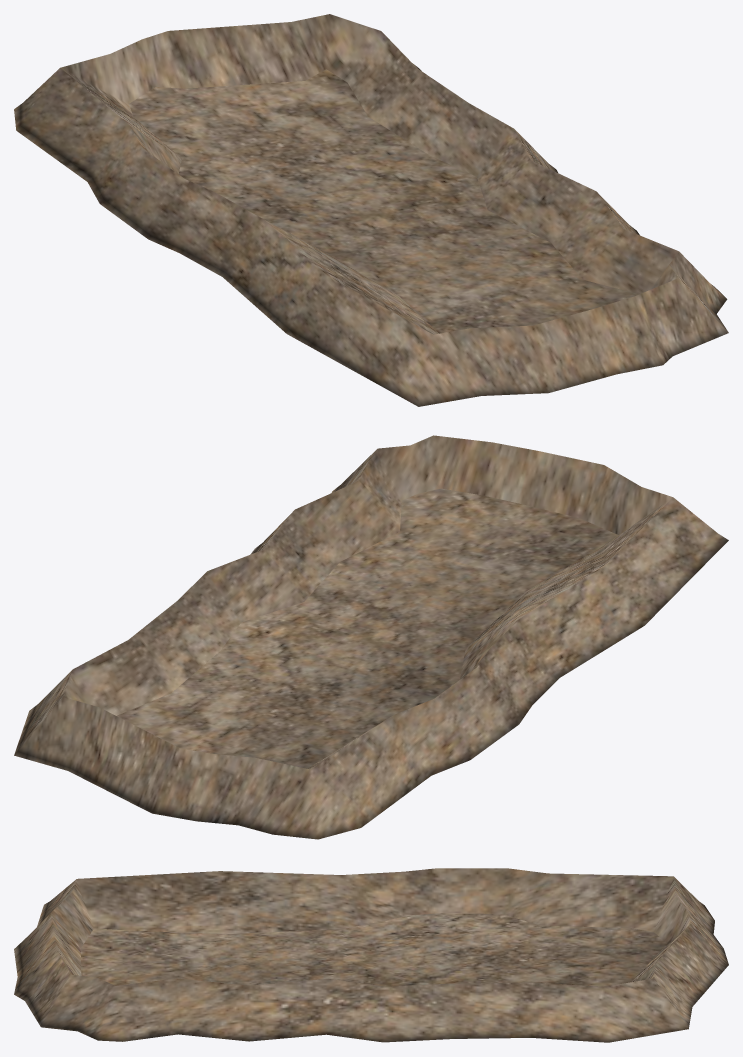
The model's file is cf_depression_collision.obj.
3 views of the same model, one above another, from view 1: azimuth 30°, elevation 25°; view 2: azimuth 150°, elevation 25°; view 3: azimuth 270°, elevation 25° (orthographic). The views are drawn at different scales.
Parts seen in each view (by area): view 1: depression_collision_Plane.006; view 2: depression_collision_Plane.006; view 3: depression_collision_Plane.006.
Boxes of the visible parts, x1,y1,x2,y2 form: depression_collision_Plane.006: [14, 14, 728, 406]; depression_collision_Plane.006: [14, 435, 728, 839]; depression_collision_Plane.006: [14, 868, 728, 1042].
Size of the model in its own units: 9.89 by 1.22 by 19.88.
1 material, 1 textured.
